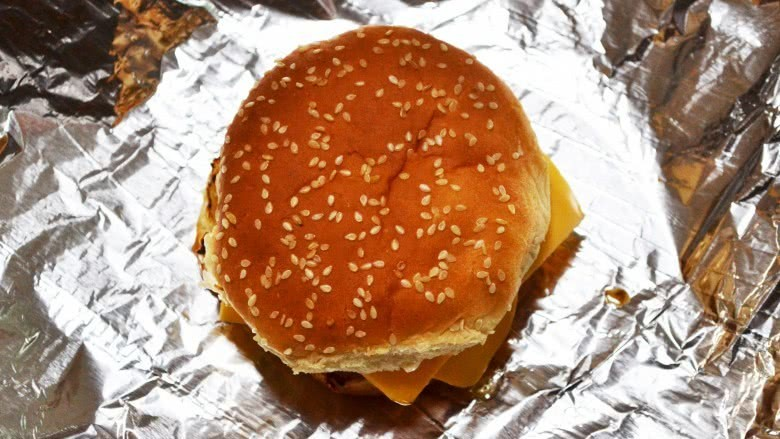hamburger_buns: (199, 3, 565, 373)
